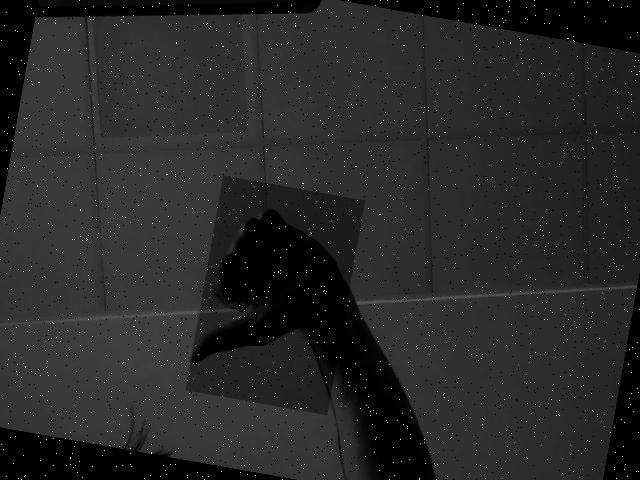bad: (185, 175, 365, 415)
